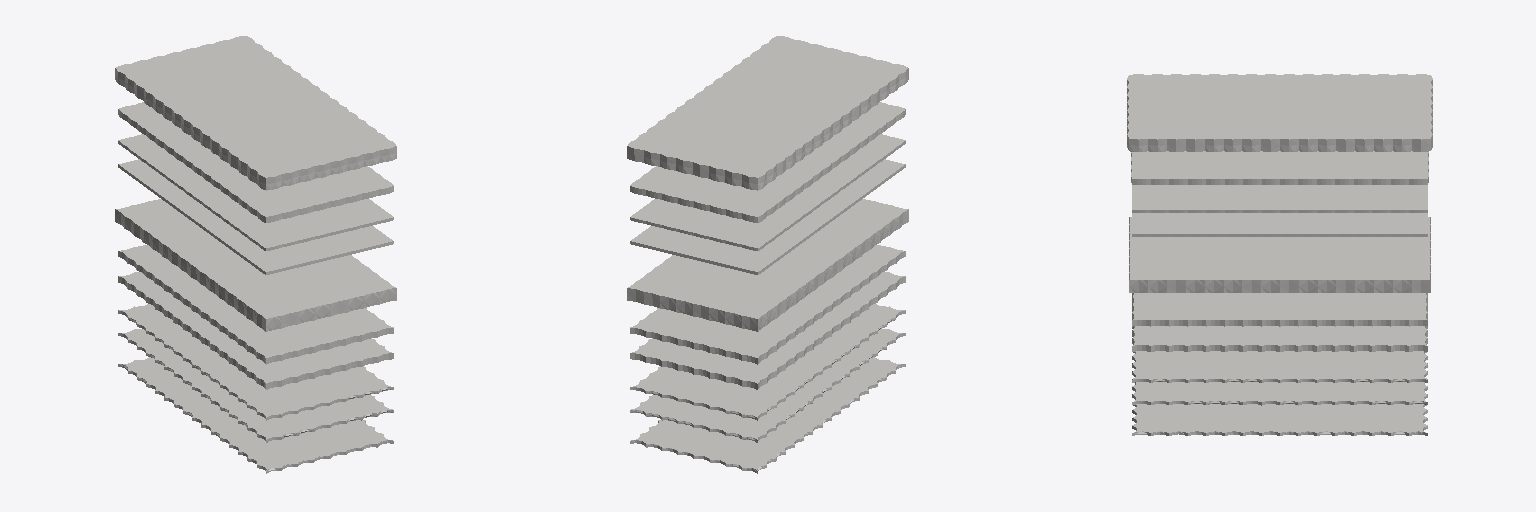
The model's file is floating_02.obj.
3 views of the same model, side by side, from view 1: azimuth 30°, elevation 25°; view 2: azimuth 150°, elevation 25°; view 3: azimuth 270°, elevation 25° (orthographic).
Bounding box in the file's own units: 66 × 140 × 130.